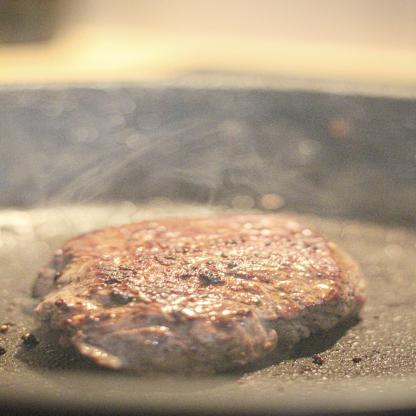Carne: (24, 208, 376, 370)
